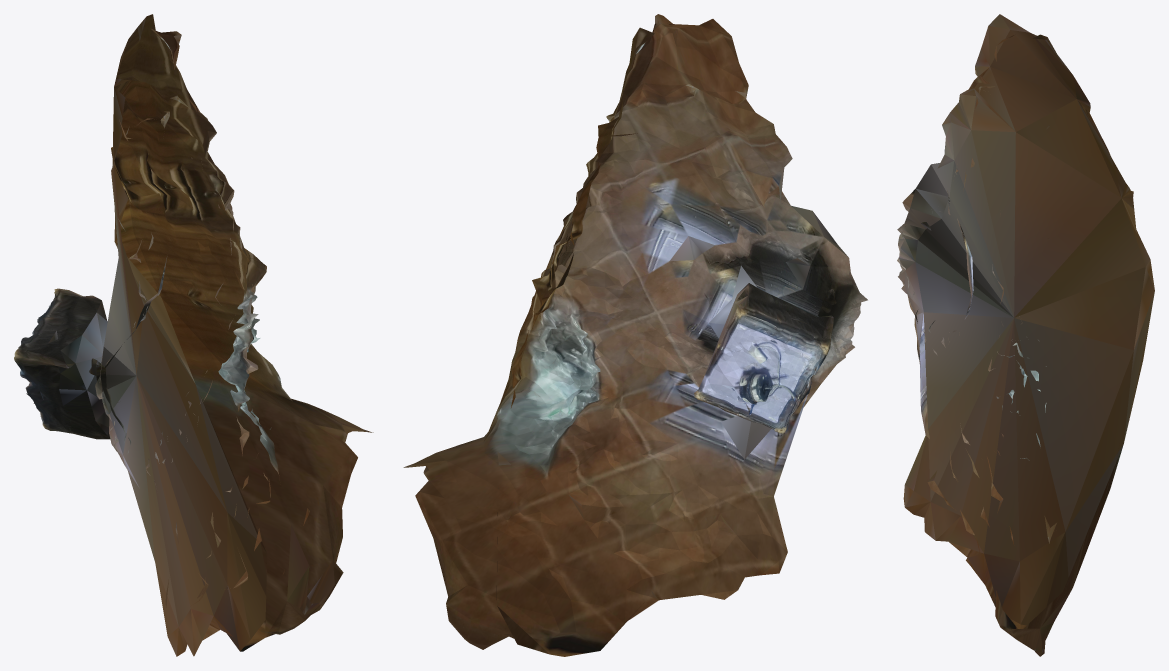
The model's file is Modelo.glb.
3 views of the same model, side by side, from view 1: azimuth 30°, elevation 25°; view 2: azimuth 150°, elevation 25°; view 3: azimuth 270°, elevation 25° (orthographic). The views are drawn at different scales.
Size of the model in its own units: 94.63 by 151 by 63.28.
Materials: 1 (1 with a texture image).
